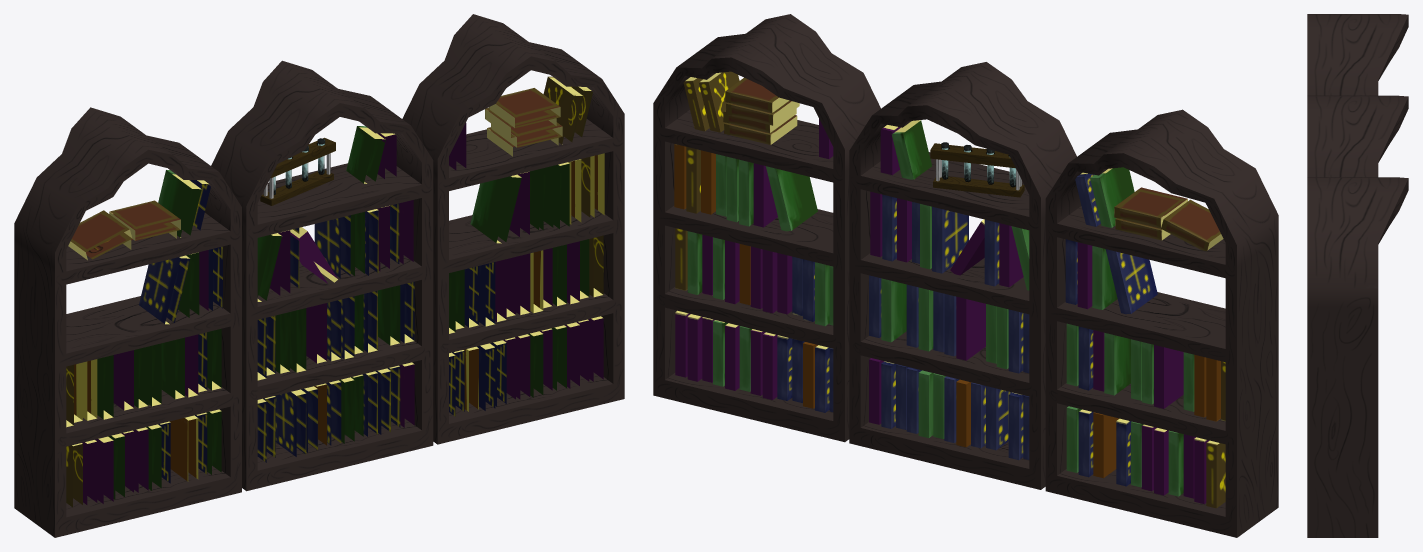
The model's file is boeken kast.fbx.
3 views of the same model, side by side, from view 1: azimuth 30°, elevation 25°; view 2: azimuth 150°, elevation 25°; view 3: azimuth 270°, elevation 25° (orthographic). The views are drawn at different scales.
Parts seen in each view (by area): view 1: pCube138, pPipe15, pCube137; view 2: pCube138, pCube137, pPipe15; view 3: pCube137, pPipe15, pCube138.
Part boxes in pixels (x1,y1,x2,y2): pCube138: [14, 107, 241, 537]; pPipe15: [211, 60, 433, 491]; pCube137: [402, 14, 624, 444]; pCube138: [1045, 109, 1278, 537]; pCube137: [653, 14, 880, 442]; pPipe15: [849, 62, 1076, 489]; pCube137: [1307, 177, 1408, 537]; pPipe15: [1307, 95, 1408, 177]; pCube138: [1307, 14, 1408, 95].
Size of the model in its own units: 25.18 by 15.44 by 4.43.
Materials: 1 (1 with a texture image).
